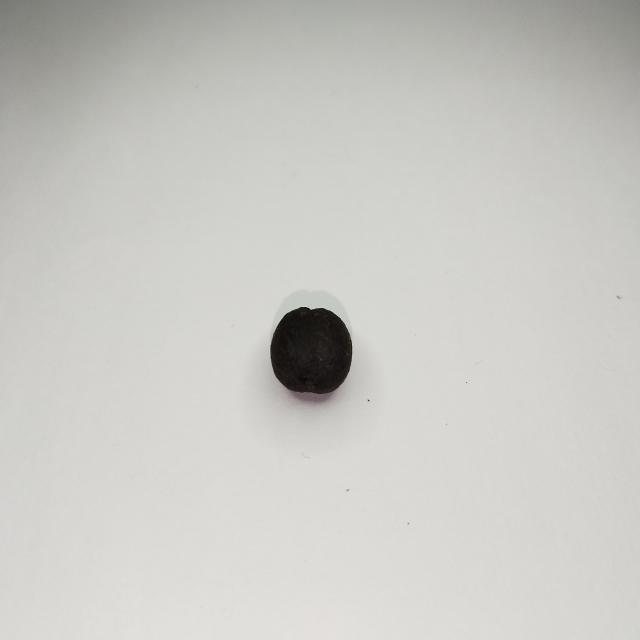Danado: (270, 306, 354, 397)
